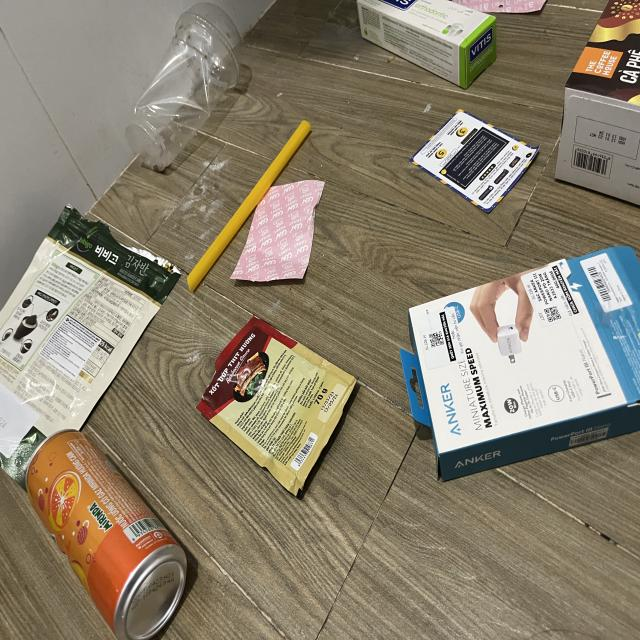can: (27, 429, 187, 640)
cardboard box: (399, 245, 640, 479), (556, 0, 640, 207), (358, 0, 498, 89)
drinking straw: (186, 121, 312, 293)
packet: (195, 318, 360, 498)
paper: (411, 110, 542, 213), (230, 180, 326, 280)
plastic glass: (126, 5, 242, 170)
snack package: (0, 200, 180, 494)
